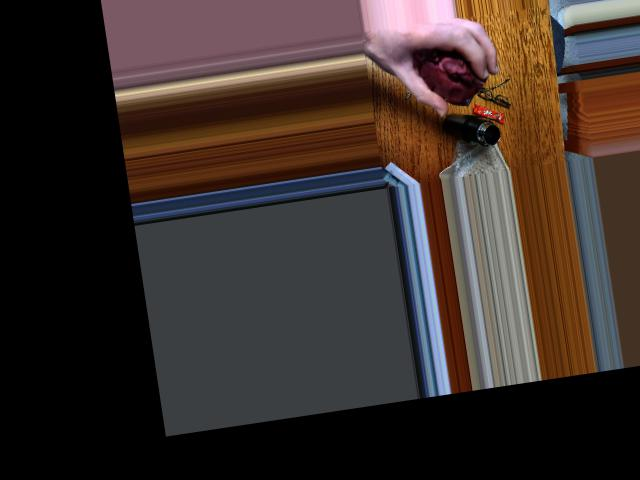onion: (412, 41, 488, 103)
